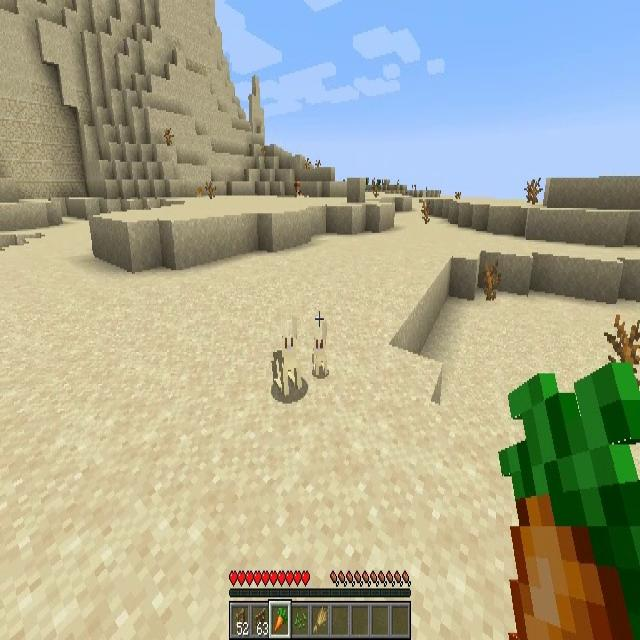rabbit: (272, 319, 302, 393), (310, 320, 329, 376)
